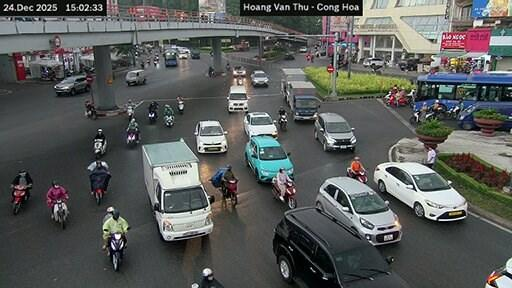motorbike: (90, 170, 109, 203), (108, 233, 124, 270), (12, 185, 28, 214), (219, 180, 236, 205), (53, 198, 67, 228), (346, 166, 367, 183), (282, 181, 294, 207), (387, 93, 406, 106), (93, 139, 105, 157), (444, 104, 457, 117), (83, 104, 95, 118), (125, 131, 135, 147), (272, 178, 280, 198), (406, 90, 415, 107), (93, 187, 102, 203), (425, 108, 435, 120), (278, 113, 285, 130), (410, 109, 419, 122), (127, 104, 133, 121), (147, 111, 156, 122), (176, 99, 182, 112), (236, 76, 242, 85), (165, 115, 172, 122), (165, 122, 171, 126)
